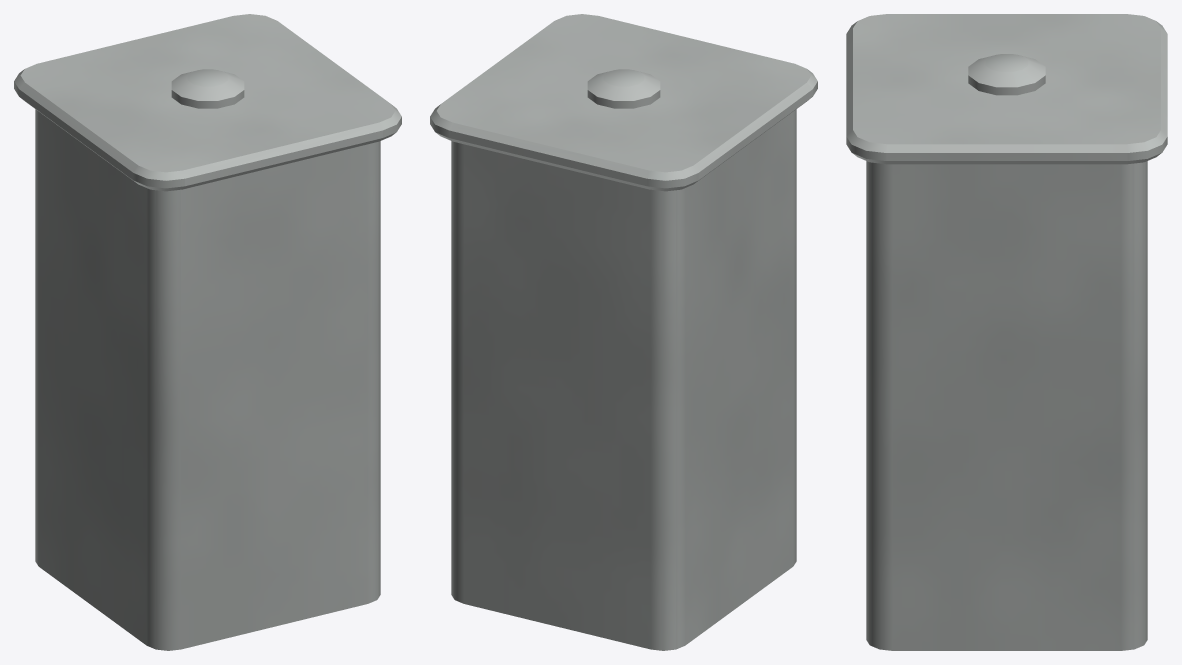
File: top.obj
3 views of the same model, side by side, from view 1: azimuth 30°, elevation 25°; view 2: azimuth 150°, elevation 25°; view 3: azimuth 270°, elevation 25° (orthographic). The views are drawn at different scales.
Parts seen in each view (by area): view 1: shaft, cap, cap_boss; view 2: shaft, cap, cap_boss; view 3: shaft, cap, cap_boss.
Part boxes in pixels (<box>): shaft: <box>35,109,380,650</box>; cap: <box>14,14,401,191</box>; cap_boss: <box>171,69,244,108</box>; shaft: <box>451,109,796,650</box>; cap: <box>430,14,817,191</box>; cap_boss: <box>587,69,660,108</box>; shaft: <box>866,161,1147,650</box>; cap: <box>846,14,1167,164</box>; cap_boss: <box>968,54,1045,95</box>.
Bounding box in the file's own units: 0.145 × 0.263 × 0.145.
